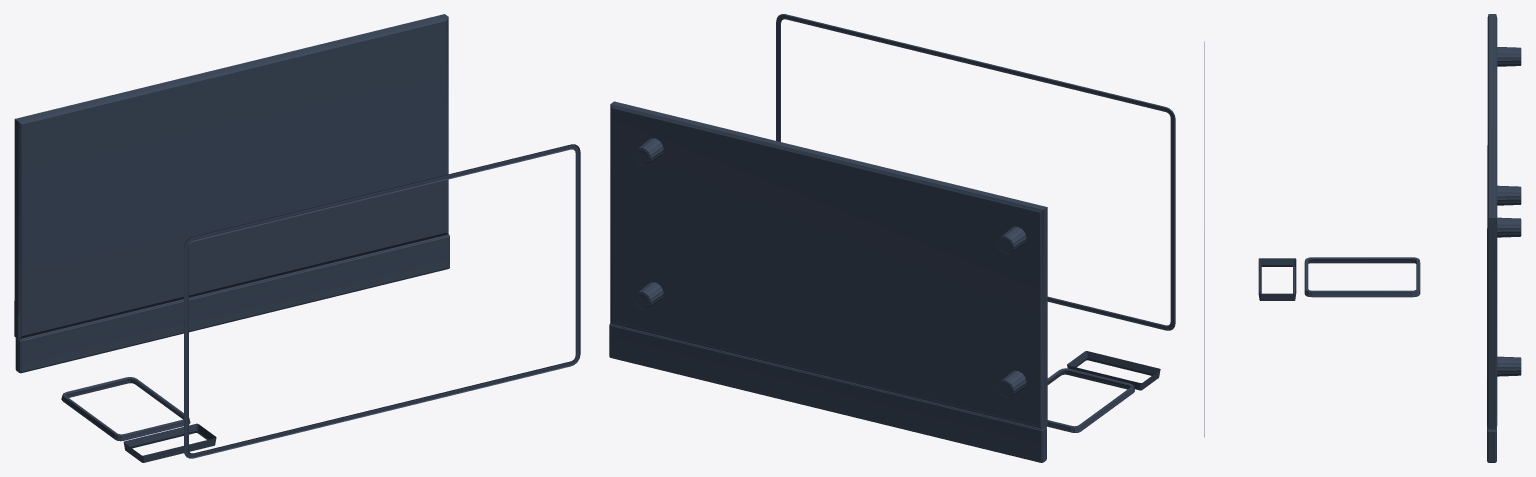
File: BodymeshMicrowaveC7_0_GeomSubset_1.obj
3 views of the same model, side by side, from view 1: azimuth 30°, elevation 25°; view 2: azimuth 150°, elevation 25°; view 3: azimuth 270°, elevation 25° (orthographic). The views are drawn at different scales.
Visible parts, largest first — view 1: BodymeshMicrowaveC7_0_GeomSubset_1; view 2: BodymeshMicrowaveC7_0_GeomSubset_1; view 3: BodymeshMicrowaveC7_0_GeomSubset_1.
Part boxes in pixels (left/top/right/bottom): BodymeshMicrowaveC7_0_GeomSubset_1: left=14, top=14, right=580, bottom=462; BodymeshMicrowaveC7_0_GeomSubset_1: left=609, top=14, right=1175, bottom=462; BodymeshMicrowaveC7_0_GeomSubset_1: left=1204, top=14, right=1521, bottom=462.
Size of the model in its own units: 0.6051 by 0.3439 by 0.3966.
